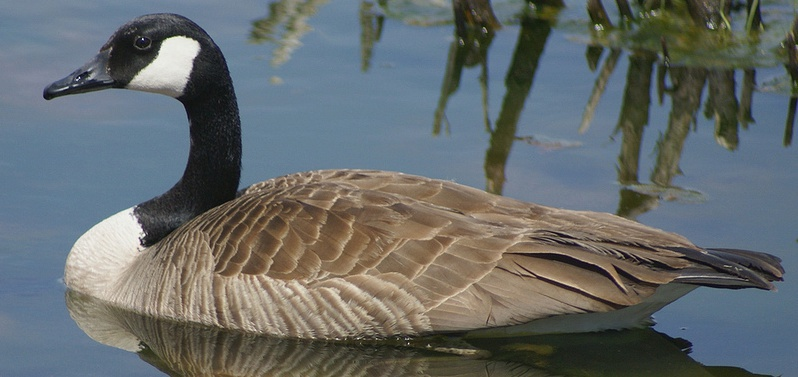goose: (39, 9, 791, 347)
